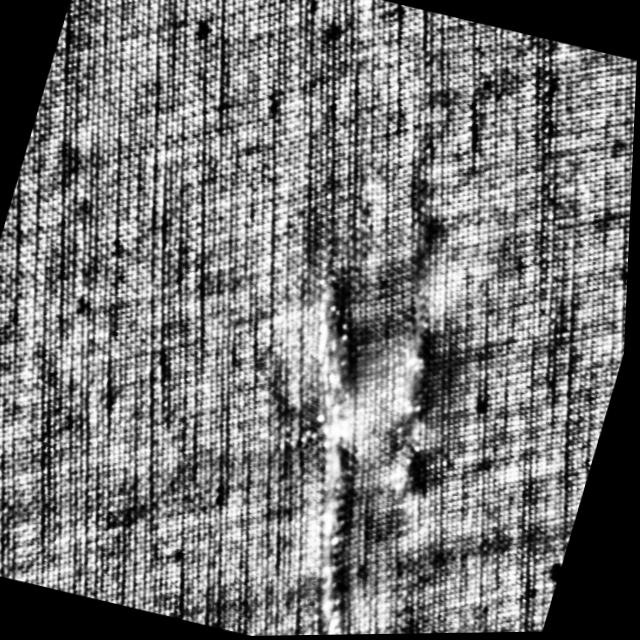Stitch: (207, 231, 458, 640), (336, 279, 496, 524)
